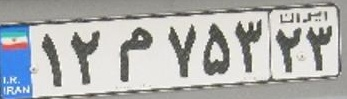character: (112, 23, 157, 84), (67, 26, 106, 89), (163, 20, 200, 83), (200, 19, 234, 81), (36, 29, 68, 91), (234, 15, 266, 77), (304, 23, 337, 75), (272, 24, 304, 76)
